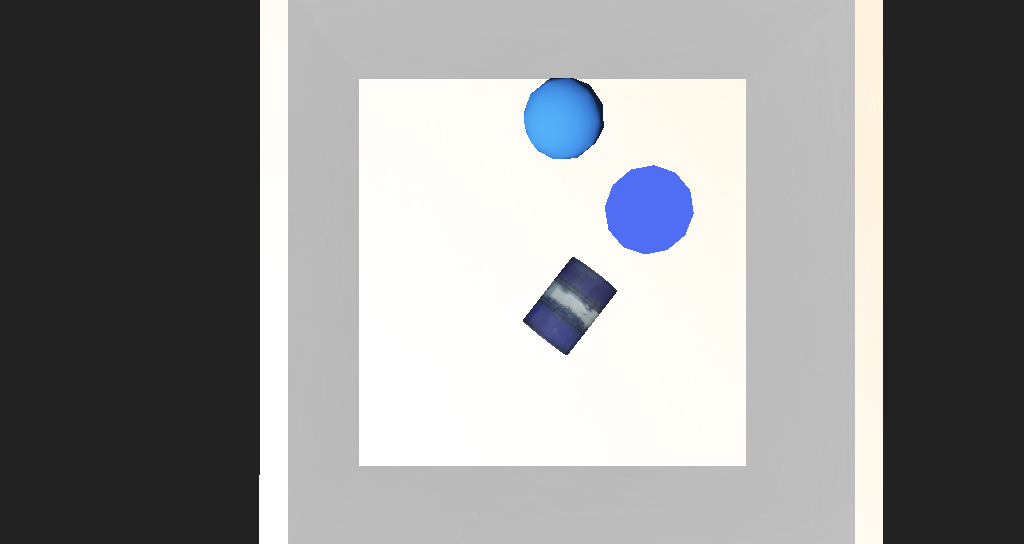cone: (482, 258, 556, 315)
cylinder: (539, 208, 606, 260)
sphere: (478, 165, 546, 208)
